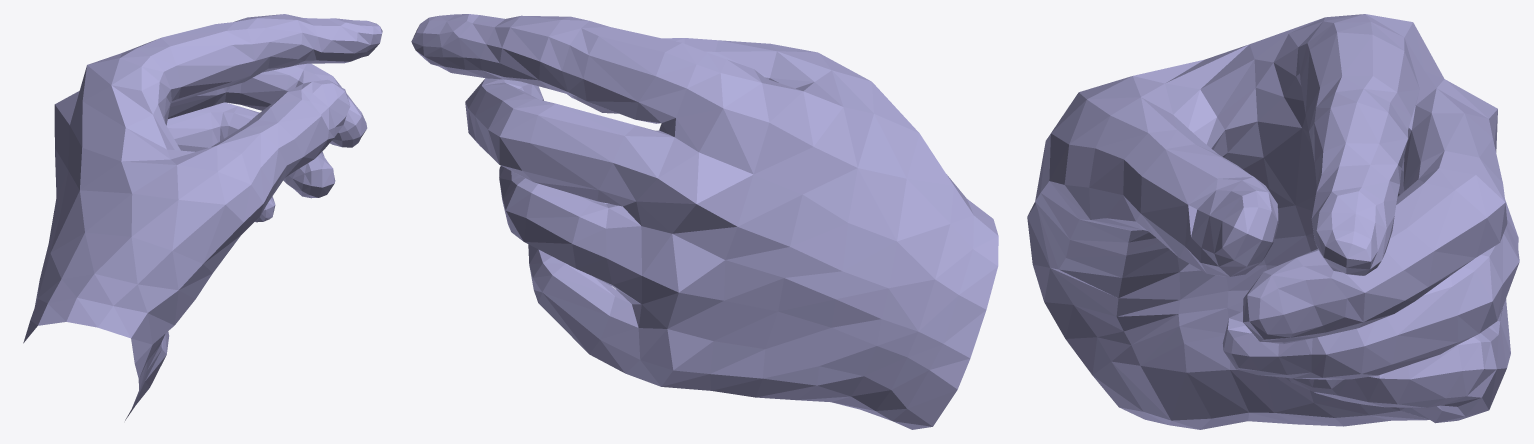
File: hand_0057.glb
The picture shows the model from 3 angles, left to right: view 1: azimuth 30°, elevation 25°; view 2: azimuth 150°, elevation 25°; view 3: azimuth 270°, elevation 25°; orthographic projection. The views are drawn at different scales.
Visible parts, largest first — view 1: world; view 2: world; view 3: world.
Part boxes in pixels (bbox=[...]): world: bbox=[23, 14, 382, 420]; world: bbox=[411, 14, 998, 429]; world: bbox=[1027, 14, 1519, 429].
Size of the model in its own units: 0.1434 by 0.1038 by 0.0944.
